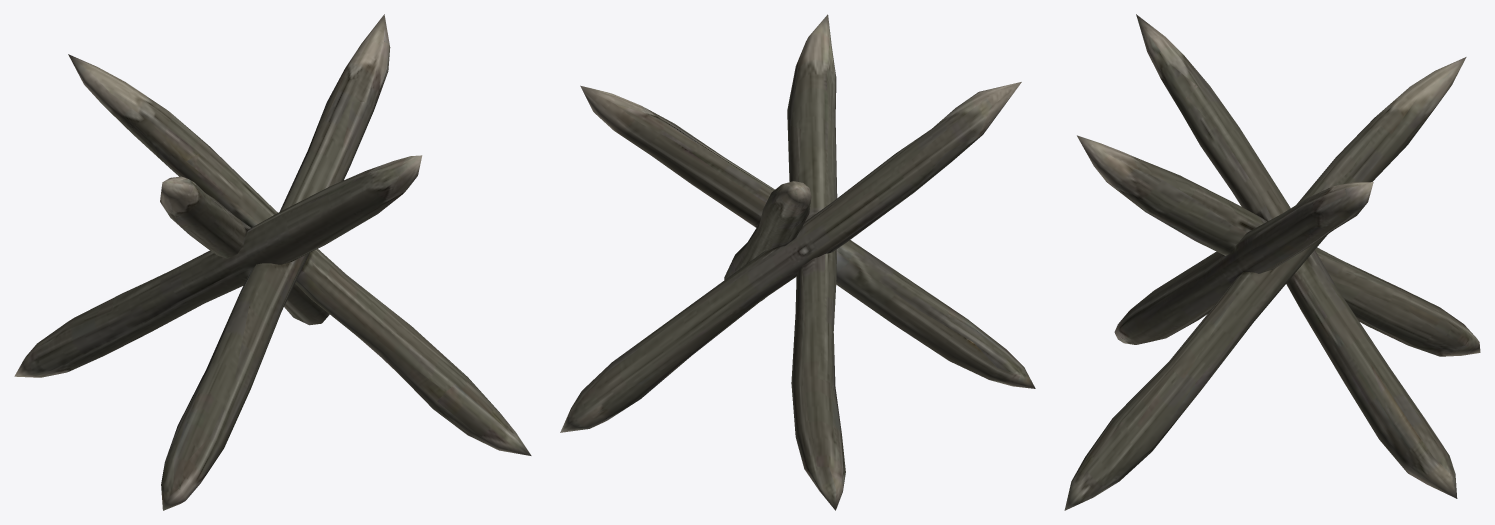
File: pv_frisa.glb
3 renders of one model, left to right at view 1: azimuth 30°, elevation 25°; view 2: azimuth 150°, elevation 25°; view 3: azimuth 270°, elevation 25°, orthographic. The views are drawn at different scales.
Visible parts, largest first — view 1: Mesh_0.002; view 2: Mesh_0.002; view 3: Mesh_0.002.
Part boxes in pixels (x1,y1,x2,y2): Mesh_0.002: (14,14,531,510); Mesh_0.002: (560,14,1035,510); Mesh_0.002: (1064,14,1480,510).
Bounding box in the file's own units: 0.229 × 0.208 × 0.2358.
1 material, 1 textured.
